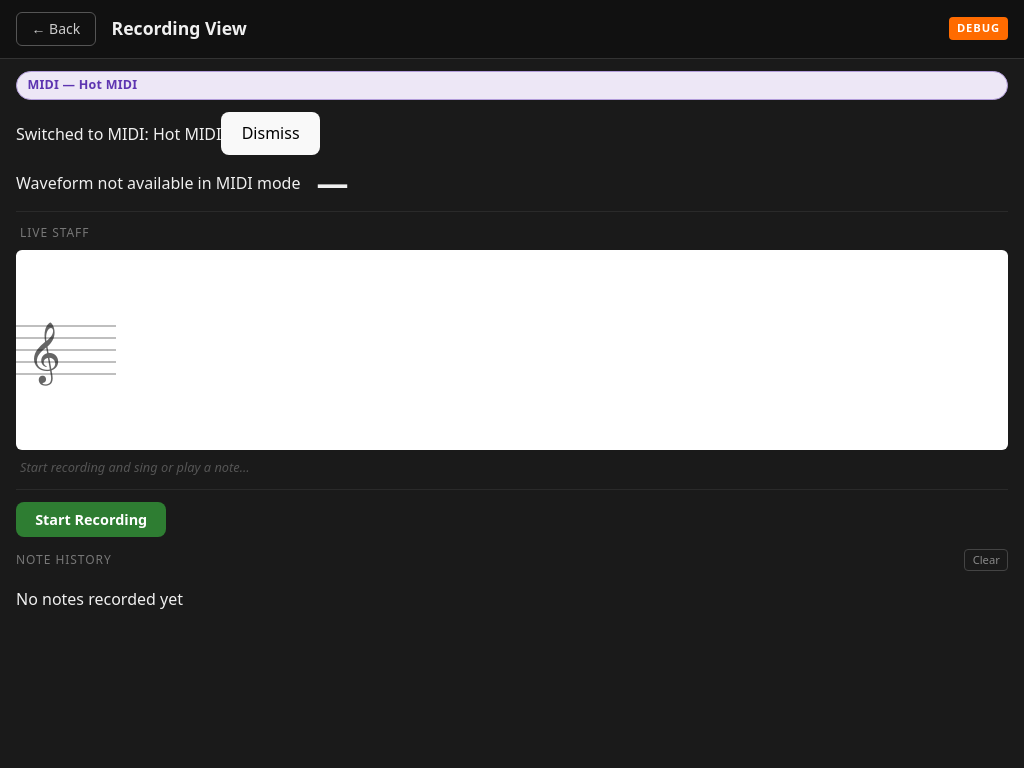
RecordingView — 029-MIDI US3: hot-connect auto-switch › T021 — info banner can be dismissed, source stays on MIDI
Expected: the text "Switched to MIDI: Hot MIDI Dismiss" is shown, [16,112,320,155]
Click the button with aria-label "Dismiss MIDI connect notification": click(271, 133) [222,112,320,155]
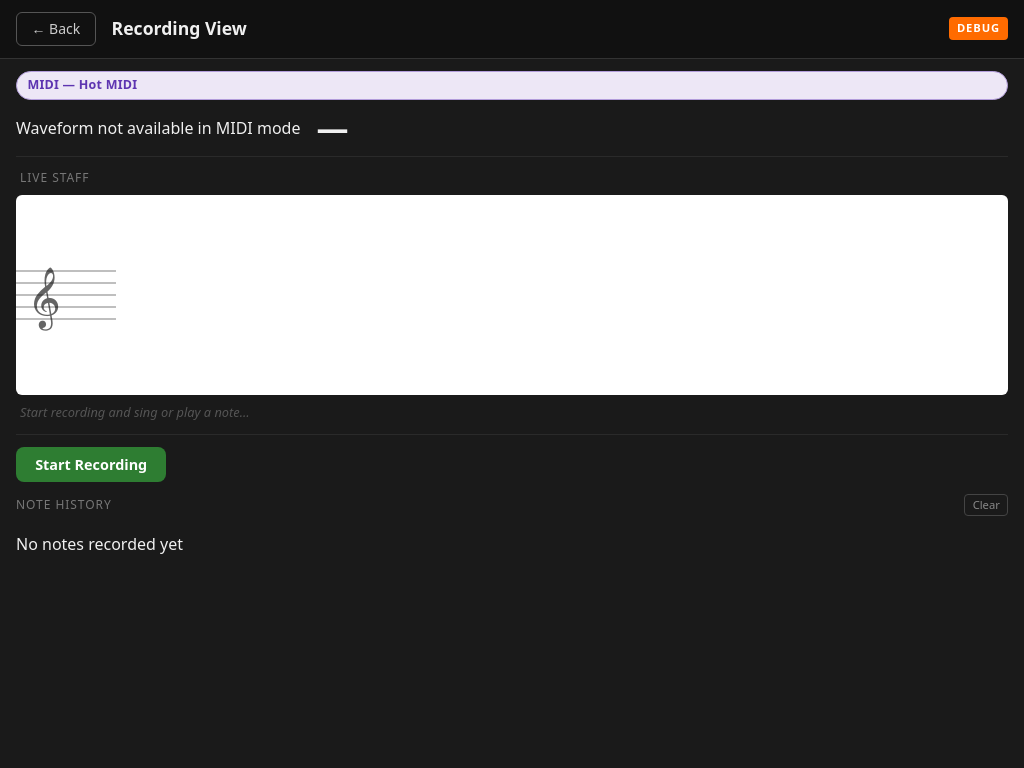
Expected: the text "MIDI — Hot MIDI" is shown, [16,71,1008,100]
Expected: the text "Switched to MIDI" is gone
